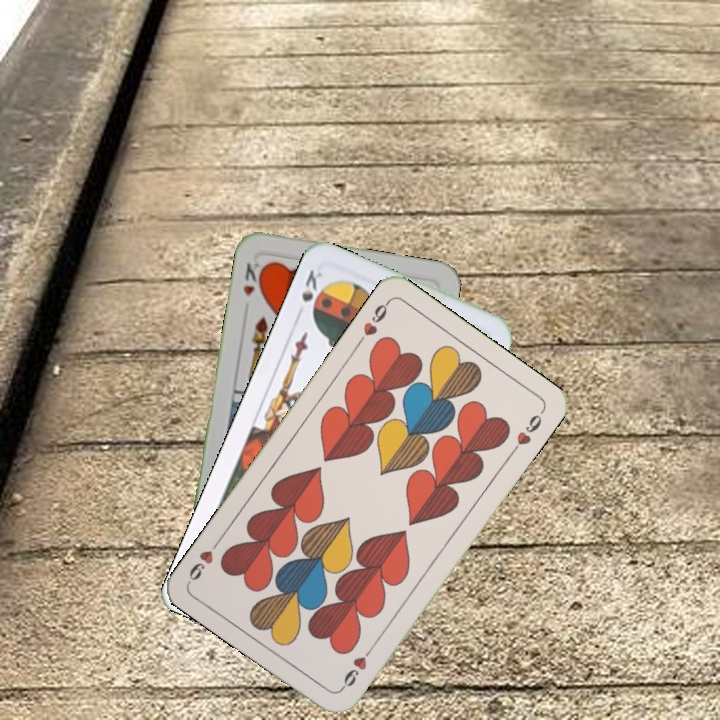H9: (336, 642, 377, 693), (353, 296, 393, 348)
HK: (239, 258, 268, 299)
SK: (297, 265, 328, 305)
